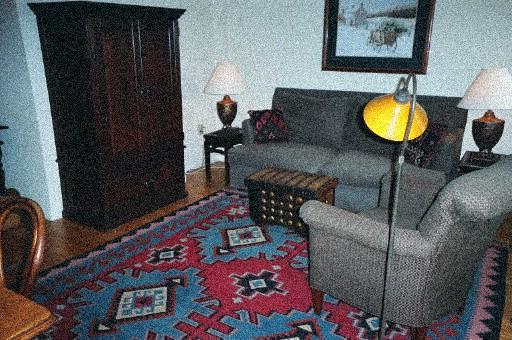Armario: (55, 7, 182, 232)
Otro Obstaculo: (347, 73, 422, 335)
